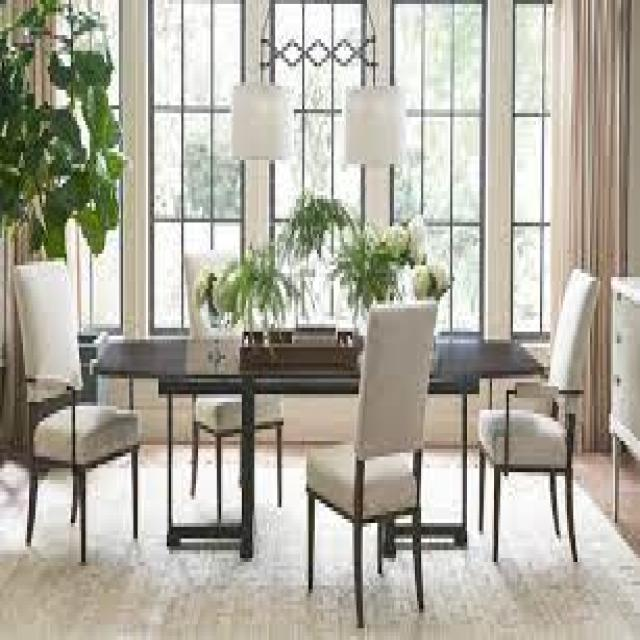chair: (303, 300, 439, 628), (11, 257, 145, 572), (478, 264, 600, 565), (182, 247, 285, 512)
